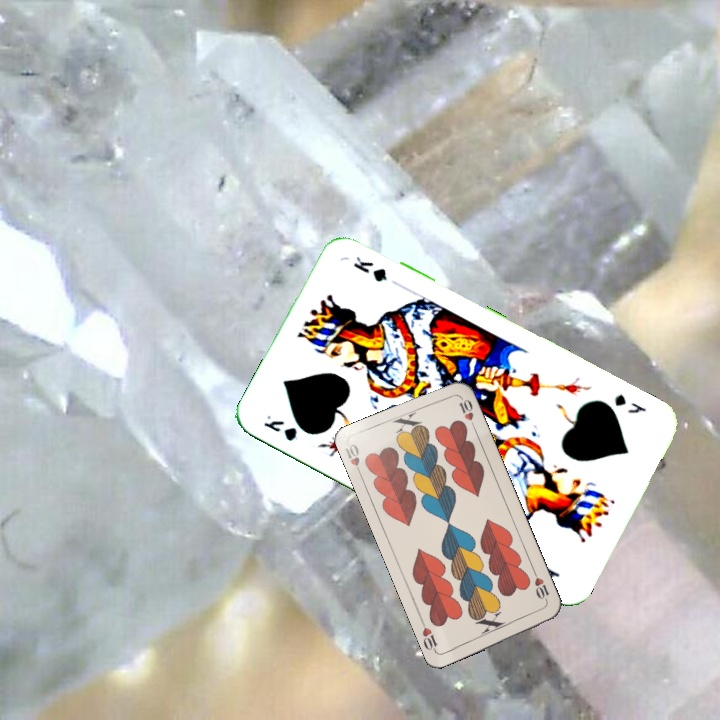GK: (259, 410, 301, 444), (610, 389, 649, 417)
H10: (341, 440, 365, 480), (530, 567, 552, 606)
